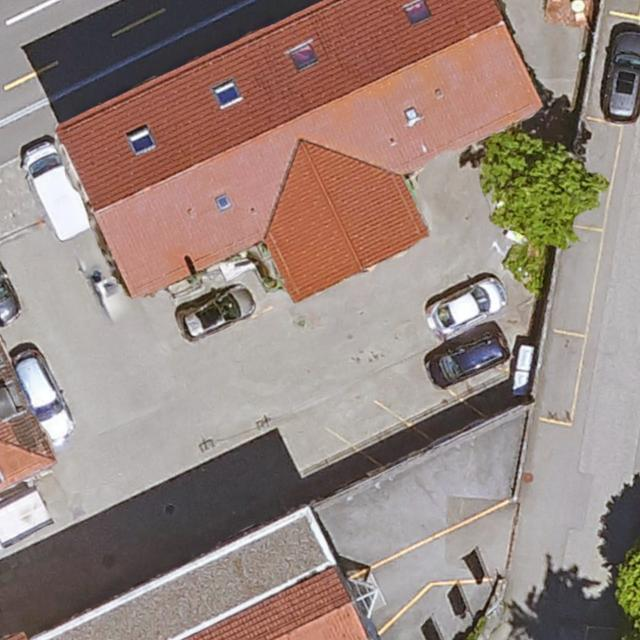tree: (483, 135, 597, 246), (613, 547, 640, 619)
